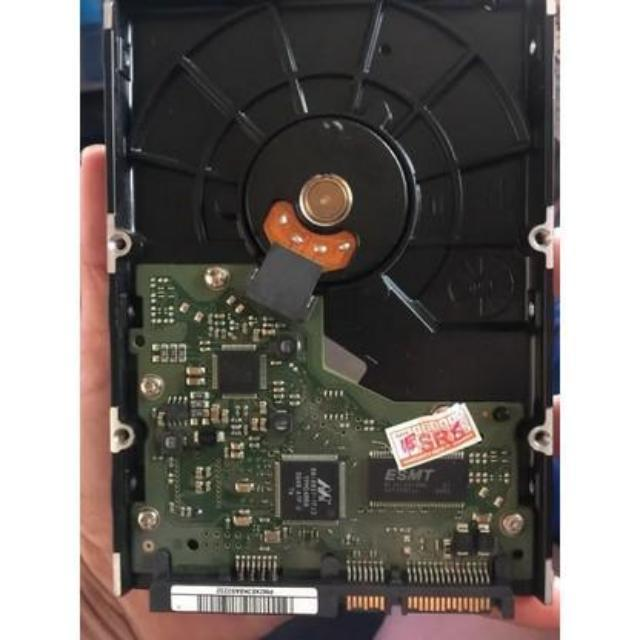DISK: (96, 2, 559, 620)
